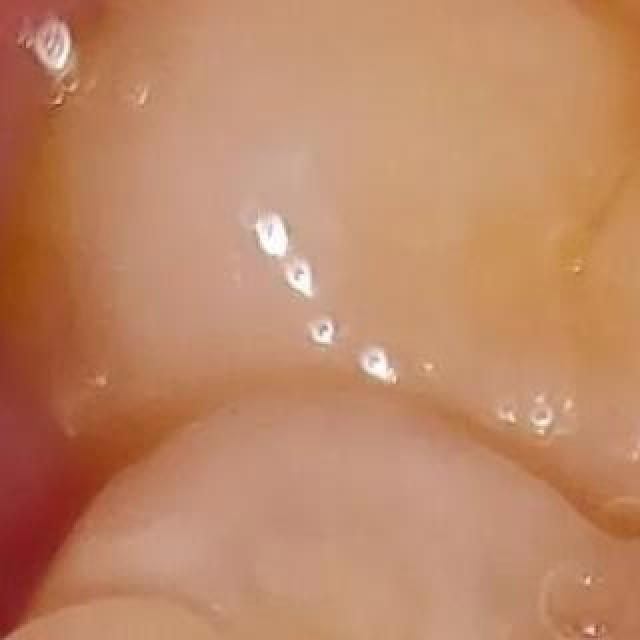cavities: (482, 0, 640, 100)
plaque: (3, 17, 271, 397)
